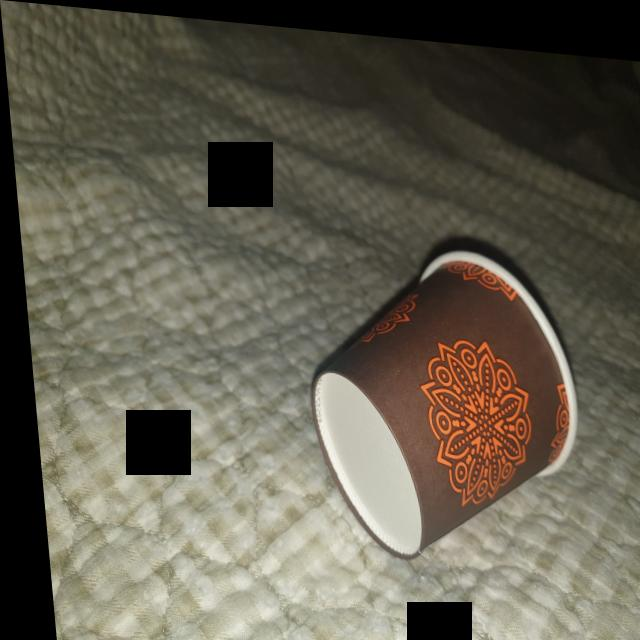cups: (280, 219, 590, 570)
